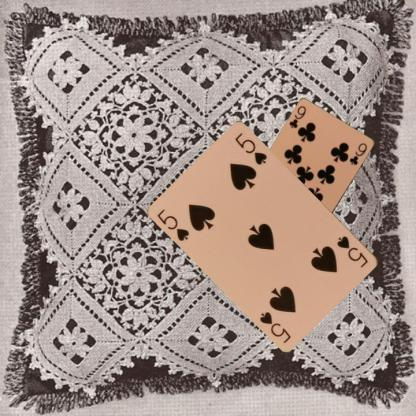5s: (154, 206, 191, 243), (334, 233, 370, 269)
9c: (286, 103, 308, 130)
